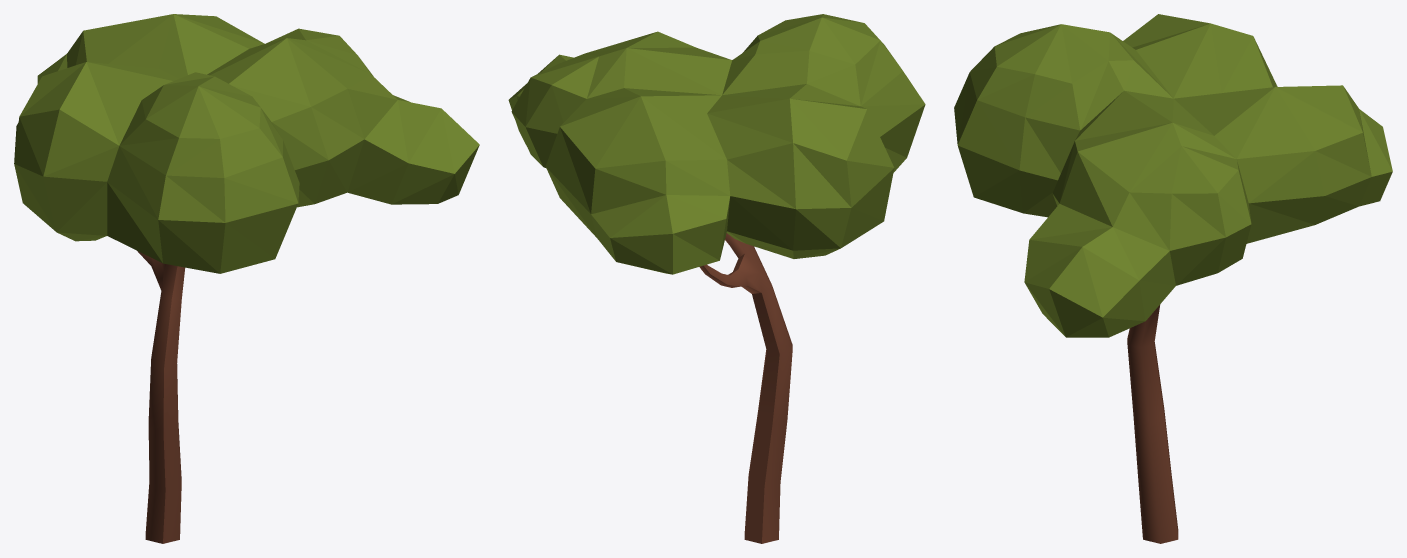
File: TREE_2.FBX
The picture shows the model from 3 angles, left to right: view 1: azimuth 30°, elevation 25°; view 2: azimuth 150°, elevation 25°; view 3: azimuth 270°, elevation 25°; orthographic projection. The views are drawn at different scales.
Visible parts, largest first — view 1: Cylinder005; view 2: Cylinder005; view 3: Cylinder005.
Part boxes in pixels (bbox=[...]): Cylinder005: bbox=[14, 14, 479, 543]; Cylinder005: bbox=[508, 14, 925, 543]; Cylinder005: bbox=[954, 14, 1392, 543].
Bounding box in the file's own units: 203 × 232 × 183.
